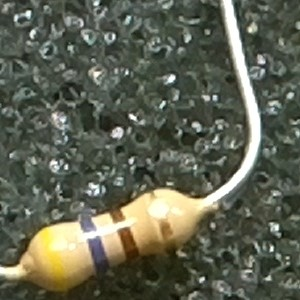brown_band: (107, 206, 144, 262)
gold_band: (144, 189, 180, 252)
violet_band: (77, 213, 112, 280)
yellow_band: (36, 222, 73, 293)
